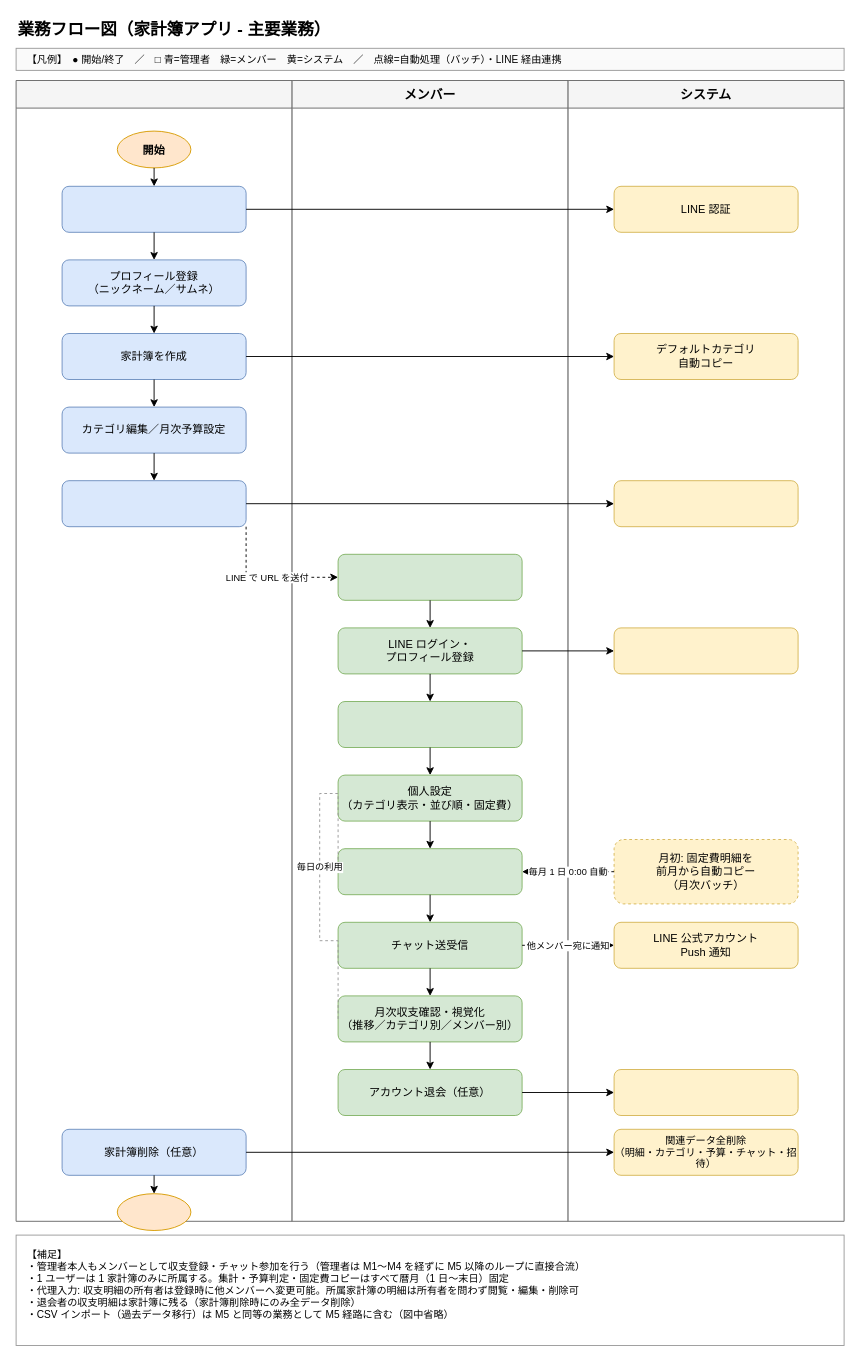
The diagram is 860 pixels wide and 1362 high, and some of its shapes have lost their labels. The box of each missing label's shape, as (x1, y1, x2, y2) in pixels:
LINE ログイン: (61, 185, 246, 232)
LINE 認証 + URL 検証: (613, 627, 798, 674)
収支登録 （所有者選択／代理入力可）: (337, 848, 522, 895)
家計簿に参加: (337, 701, 522, 748)
招待 URL にアクセス: (337, 553, 522, 600)
招待 URL 生成 （24h／1 回限り）: (613, 480, 798, 527)
招待 URL 発行・送信 （LINE で共有）: (61, 480, 246, 527)
管理者: (15, 80, 292, 1221)
終了: (116, 1193, 191, 1230)
退会者データを家計簿に保持 （所有者表示は『退会済みユーザー』）: (613, 1069, 798, 1116)
